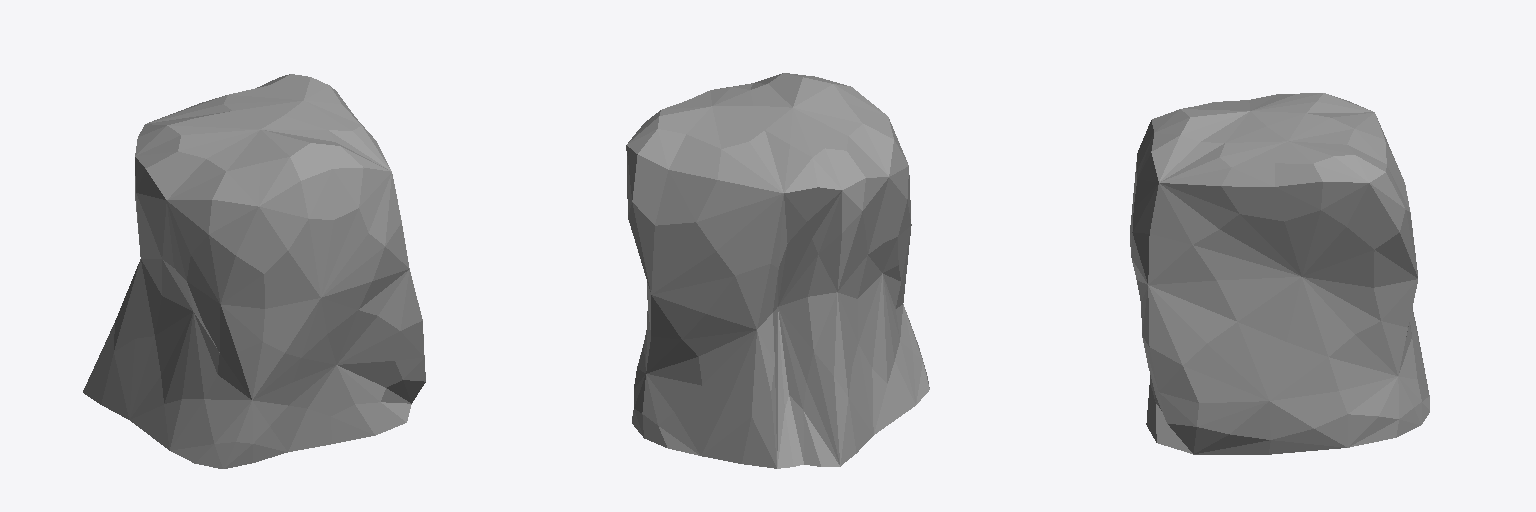
The model's file is rack1.obj.
3 renders of one model, left to right at view 1: azimuth 30°, elevation 25°; view 2: azimuth 150°, elevation 25°; view 3: azimuth 270°, elevation 25°, orthographic.
Visible parts, largest first — view 1: Mesh_Cube; view 2: Mesh_Cube; view 3: Mesh_Cube.
Boxes of the visible parts, x1=… form: Mesh_Cube: x1=83, y1=74, x2=425, y2=468; Mesh_Cube: x1=626, y1=73, x2=929, y2=468; Mesh_Cube: x1=1130, y1=93, x2=1429, y2=454.
Bounding box in the file's own units: 1.79 × 2 × 1.9.